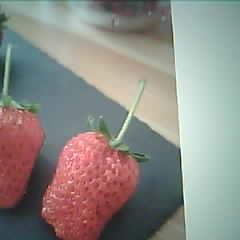straw-ripe: (41, 130, 139, 240), (0, 99, 43, 209)
